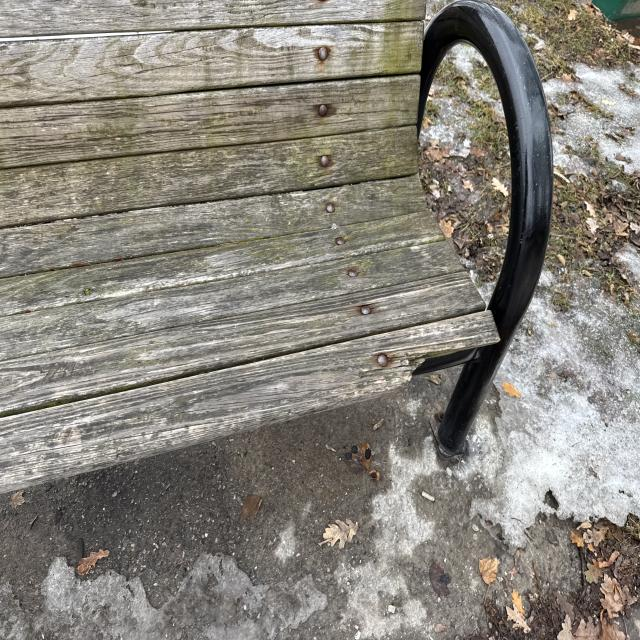Bench: (2, 6, 557, 468)
